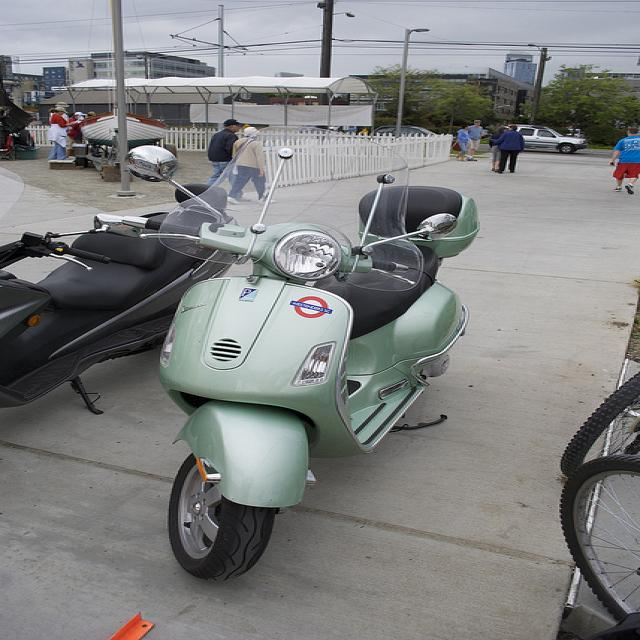motor: (147, 178, 482, 588), (2, 187, 230, 408)
